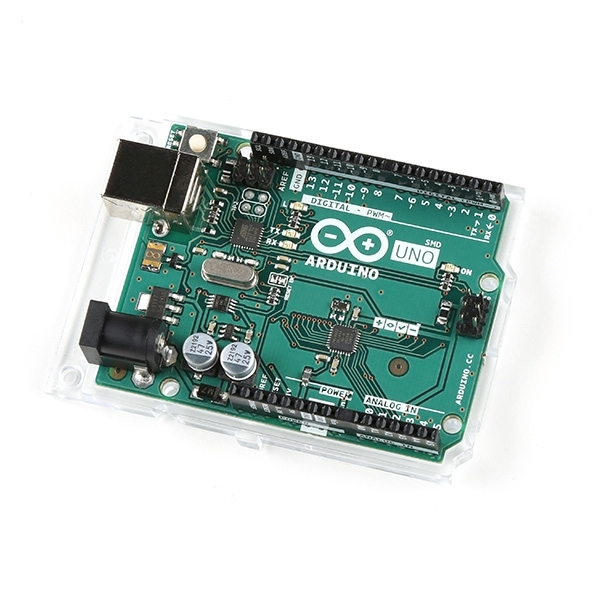Arduino: (74, 98, 513, 466)
